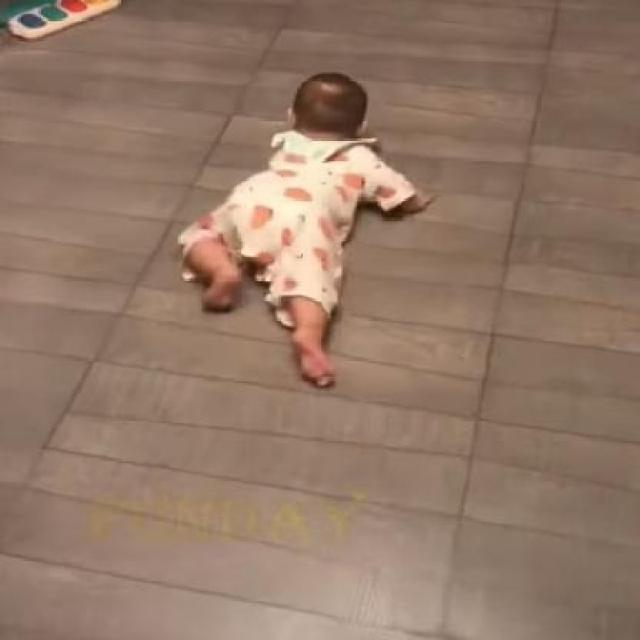baby: (175, 69, 434, 388)
